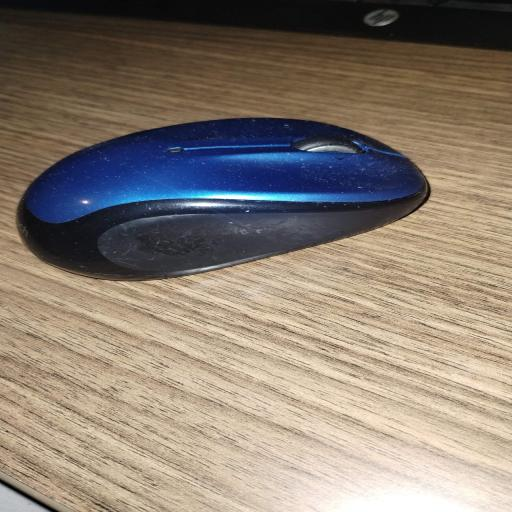mouse: (18, 118, 427, 279)
